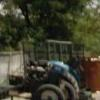Tractor: (20, 35, 96, 100)
